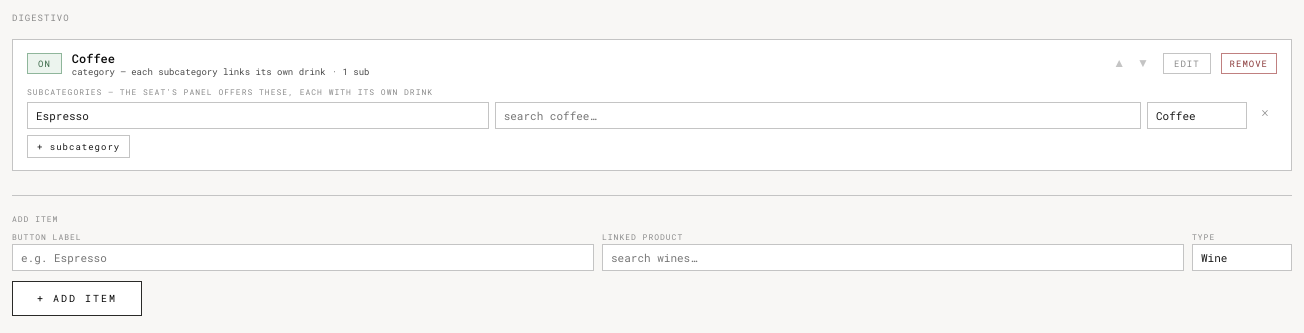
Test: removing a whole button › asks before it deletes
What coordinates should you click on to do the following:
click the button with aria-label "Remove Coffee"
I would click on:
 (1249, 64)
Its box is [1221,53,1277,74].
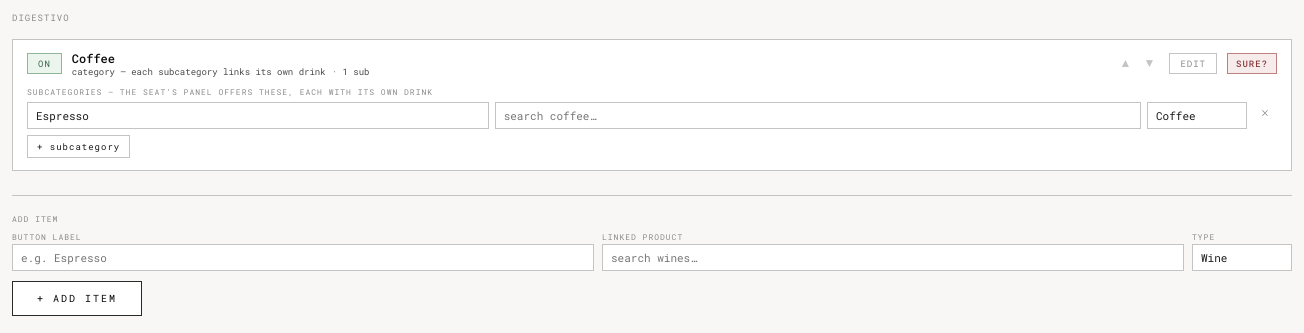
Expected: the field named "Coffee subcategory 1" is shown, [27,102,489,129]
Expected: the button with aria-label "Confirm remove Coffee" is shown, [1227,53,1277,74]
